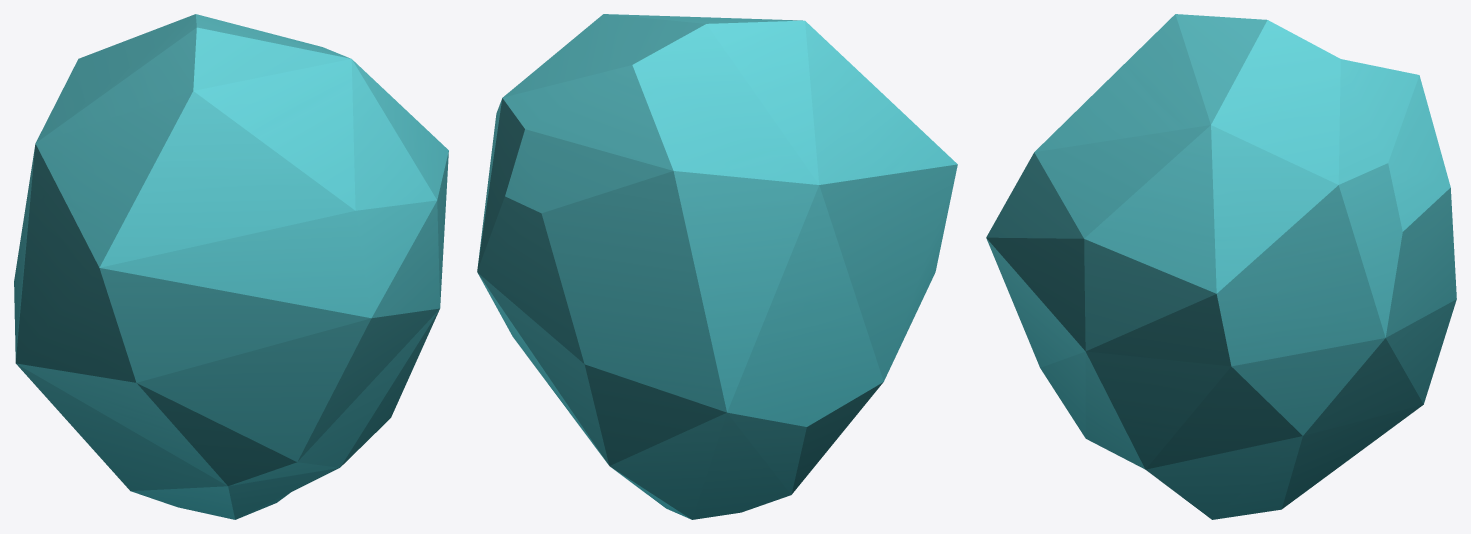
File: Bush_Ball_Blue_01.fbx
The picture shows the model from 3 angles, left to right: view 1: azimuth 30°, elevation 25°; view 2: azimuth 150°, elevation 25°; view 3: azimuth 270°, elevation 25°; orthographic projection. The views are drawn at different scales.
Visible parts, largest first — view 1: Bush_Ball_Blue; view 2: Bush_Ball_Blue; view 3: Bush_Ball_Blue.
Part boxes in pixels (<box>): Bush_Ball_Blue: <box>14,14,448,519</box>; Bush_Ball_Blue: <box>477,14,957,519</box>; Bush_Ball_Blue: <box>986,14,1456,519</box>.
Bounding box in the file's own units: 0.9 × 1 × 0.9.
